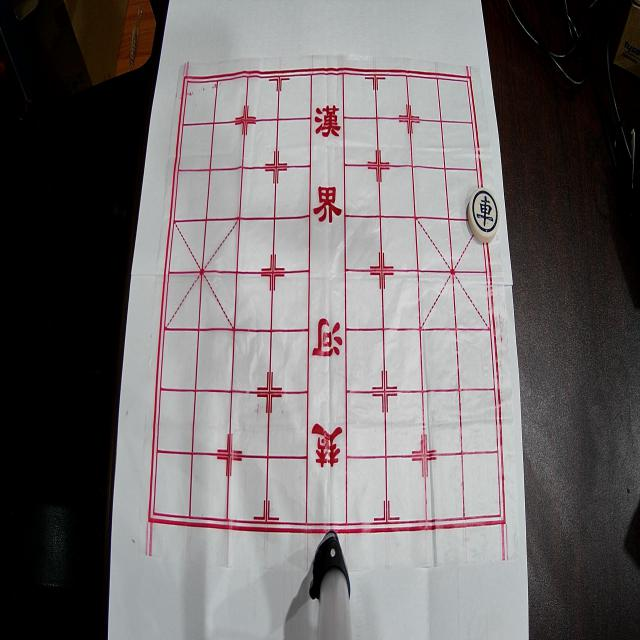black-chariot: (468, 188, 500, 242)
